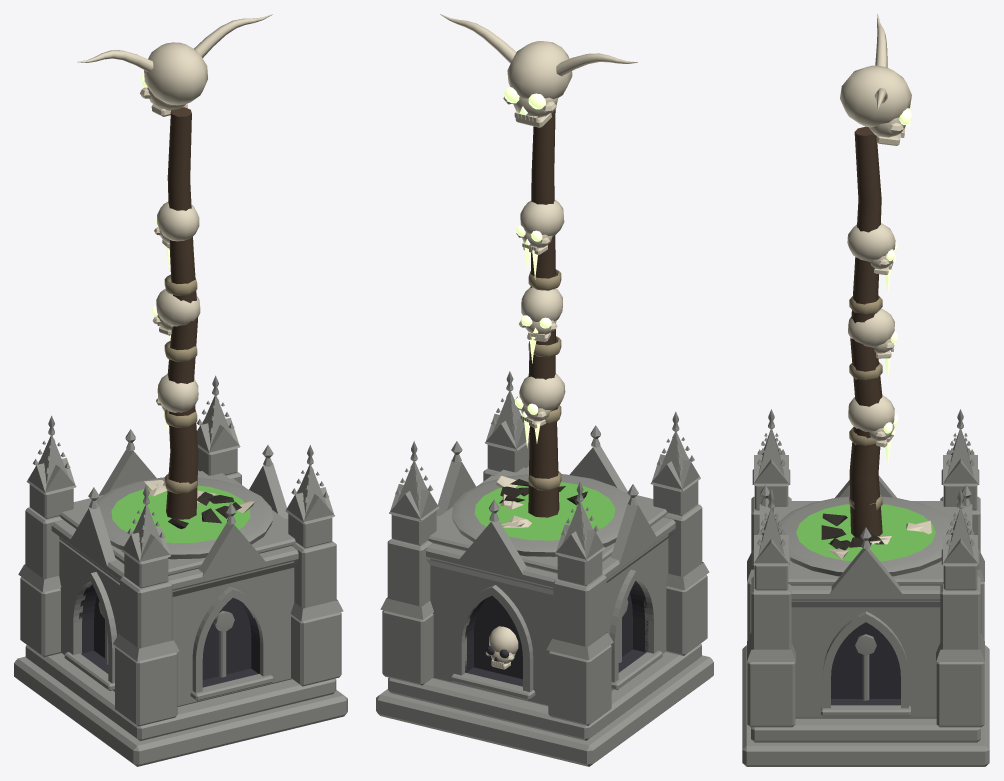
The model's file is tower_plague_3.glb.
The picture shows the model from 3 angles, left to right: view 1: azimuth 30°, elevation 25°; view 2: azimuth 150°, elevation 25°; view 3: azimuth 270°, elevation 25°; orthographic projection.
Parts seen in each view (by area): view 1: tower; view 2: tower; view 3: tower.
Part boxes in pixels (x1,y1,x2,y2): tower: (14, 14, 347, 766); tower: (376, 14, 713, 766); tower: (742, 14, 989, 766).
Size of the model in its own units: 1.7 by 4.97 by 1.7.
